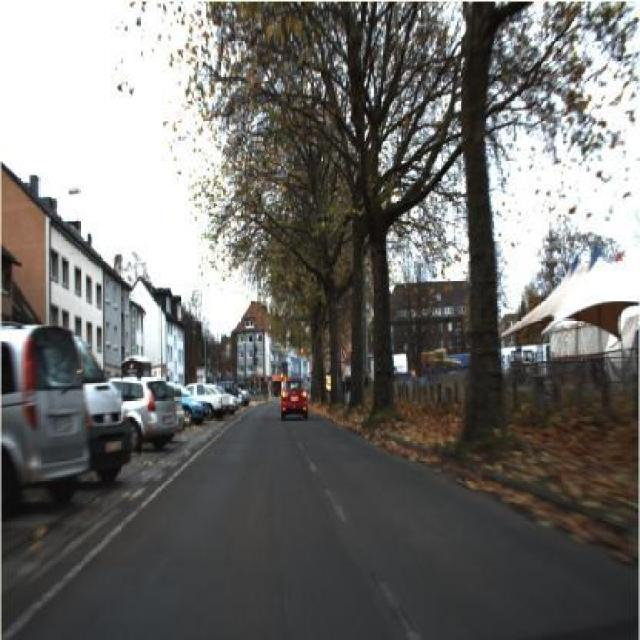traffic_sign: (338, 346, 352, 365)
